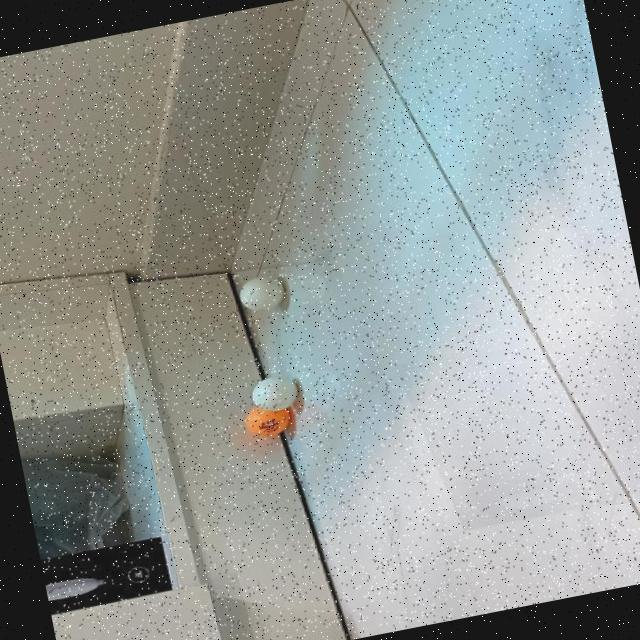ping-pong-ball: (236, 270, 290, 314), (248, 371, 301, 413), (244, 398, 294, 438)
